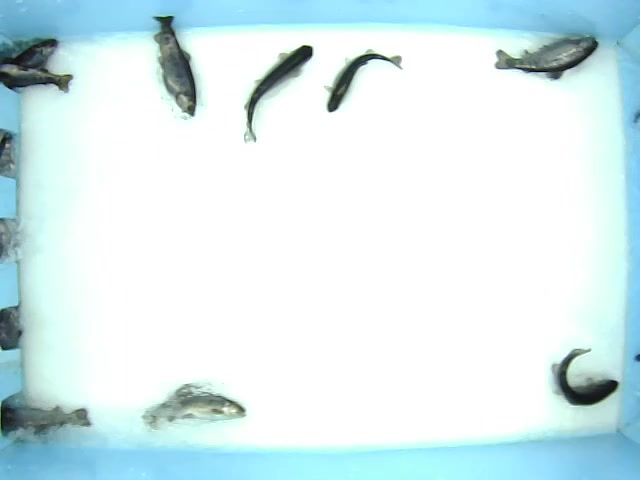fish: (229, 36, 319, 149), (319, 43, 460, 115), (148, 18, 205, 127), (538, 349, 638, 409), (496, 29, 602, 80), (133, 392, 260, 434)
